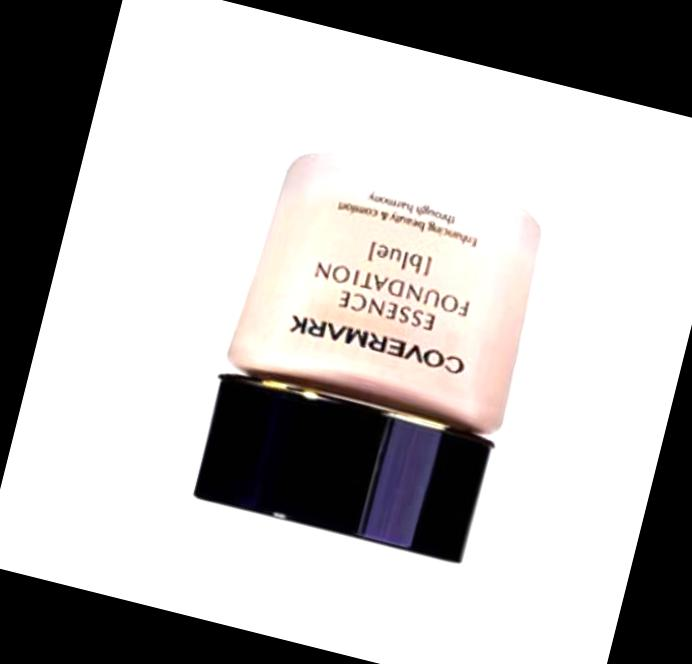cosmetic: (187, 139, 557, 566)
